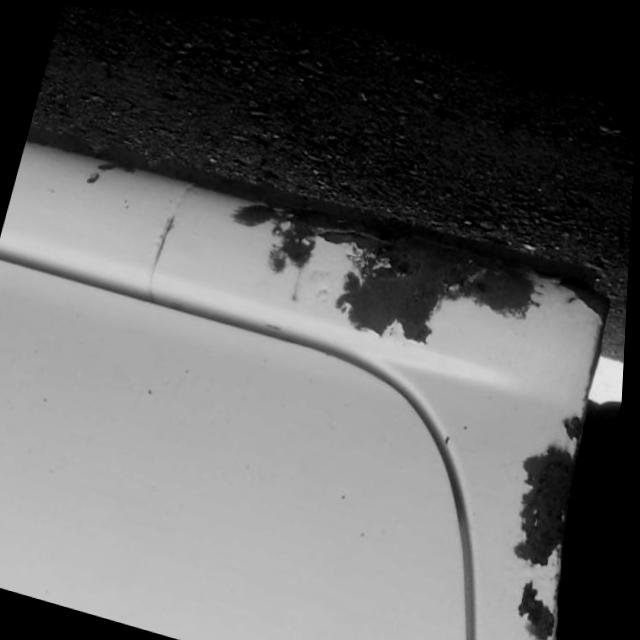Rust: (24, 121, 612, 384), (509, 401, 589, 640)
